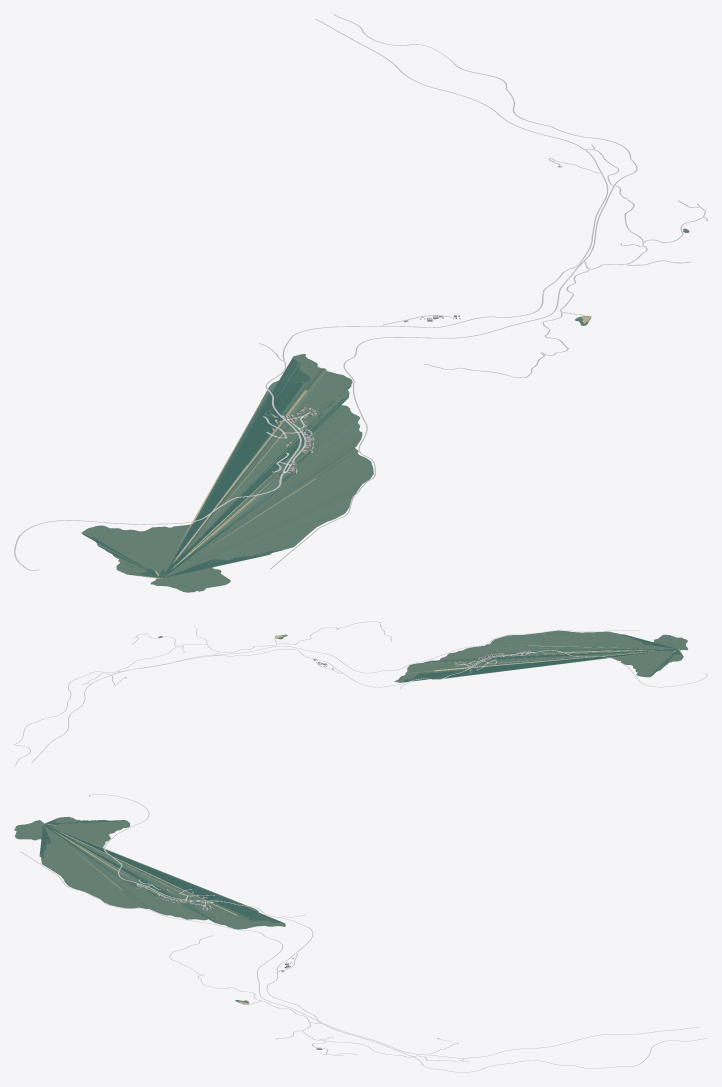
The picture shows the model from 3 angles, top to bottom: view 1: azimuth 30°, elevation 25°; view 2: azimuth 150°, elevation 25°; view 3: azimuth 270°, elevation 25°; orthographic projection. The views are drawn at different scales.
Visible parts, largest first — view 1: Waterbody__water, CityEngineMaterial_3, CityEngineShapeMaterial, CityEngineMaterial_1, CityEngineMaterial_2; view 2: Waterbody__water, CityEngineMaterial_3, CityEngineMaterial_1, CityEngineShapeMaterial, CityEngineMaterial_2; view 3: Waterbody__water, CityEngineMaterial_3, CityEngineMaterial_1, CityEngineShapeMaterial, CityEngineMaterial_2.
Part boxes in pixels (bbox=[...]): Waterbody__water: bbox=[82, 228, 689, 592]; CityEngineMaterial_3: bbox=[82, 229, 689, 592]; CityEngineShapeMaterial: bbox=[14, 14, 707, 570]; CityEngineMaterial_1: bbox=[16, 14, 707, 570]; CityEngineMaterial_2: bbox=[14, 19, 705, 564]; Waterbody__water: bbox=[158, 630, 687, 682]; CityEngineMaterial_3: bbox=[159, 630, 687, 682]; CityEngineMaterial_1: bbox=[15, 621, 707, 765]; CityEngineShapeMaterial: bbox=[14, 621, 707, 765]; CityEngineMaterial_2: bbox=[14, 621, 703, 763]; Waterbody__water: bbox=[14, 817, 322, 1049]; CityEngineMaterial_3: bbox=[14, 817, 321, 1049]; CityEngineMaterial_1: bbox=[20, 794, 707, 1072]; CityEngineShapeMaterial: bbox=[21, 794, 705, 1072]; CityEngineMaterial_2: bbox=[64, 794, 699, 1066].
Bounding box in the file's own units: 6576 × 237 × 7109.
